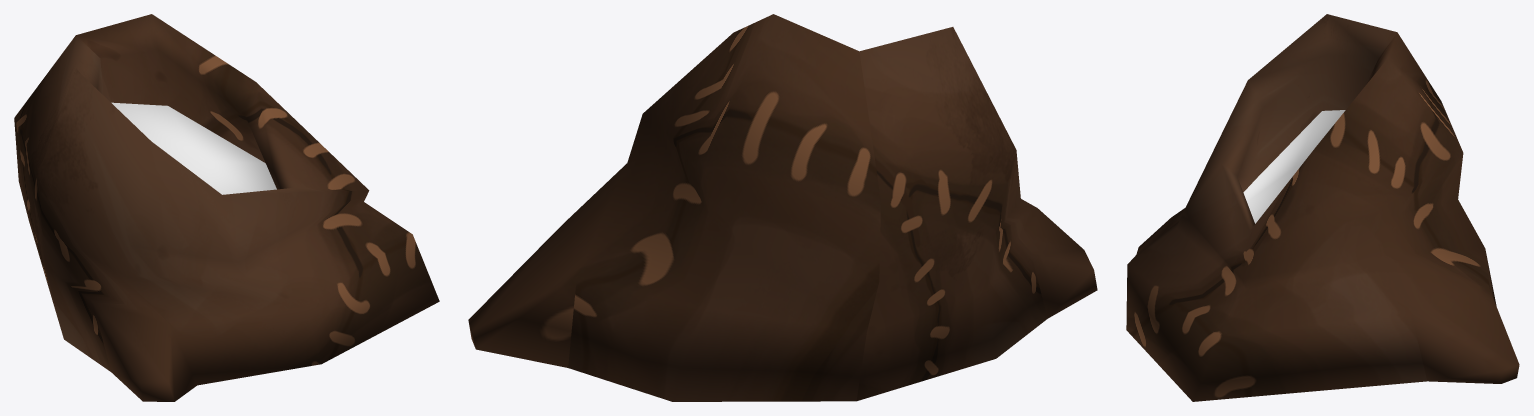
File: SM_PROP_sack_07.fbx
The picture shows the model from 3 angles, left to right: view 1: azimuth 30°, elevation 25°; view 2: azimuth 150°, elevation 25°; view 3: azimuth 270°, elevation 25°; orthographic projection. The views are drawn at different scales.
Visible parts, largest first — view 1: SM_PROP_sack_07; view 2: SM_PROP_sack_07; view 3: SM_PROP_sack_07.
Part boxes in pixels (x1,y1,x2,y2): SM_PROP_sack_07: (14, 14, 439, 401); SM_PROP_sack_07: (468, 14, 1097, 401); SM_PROP_sack_07: (1126, 14, 1519, 401).
Size of the model in its own units: 65.55 by 49.83 by 67.81.
